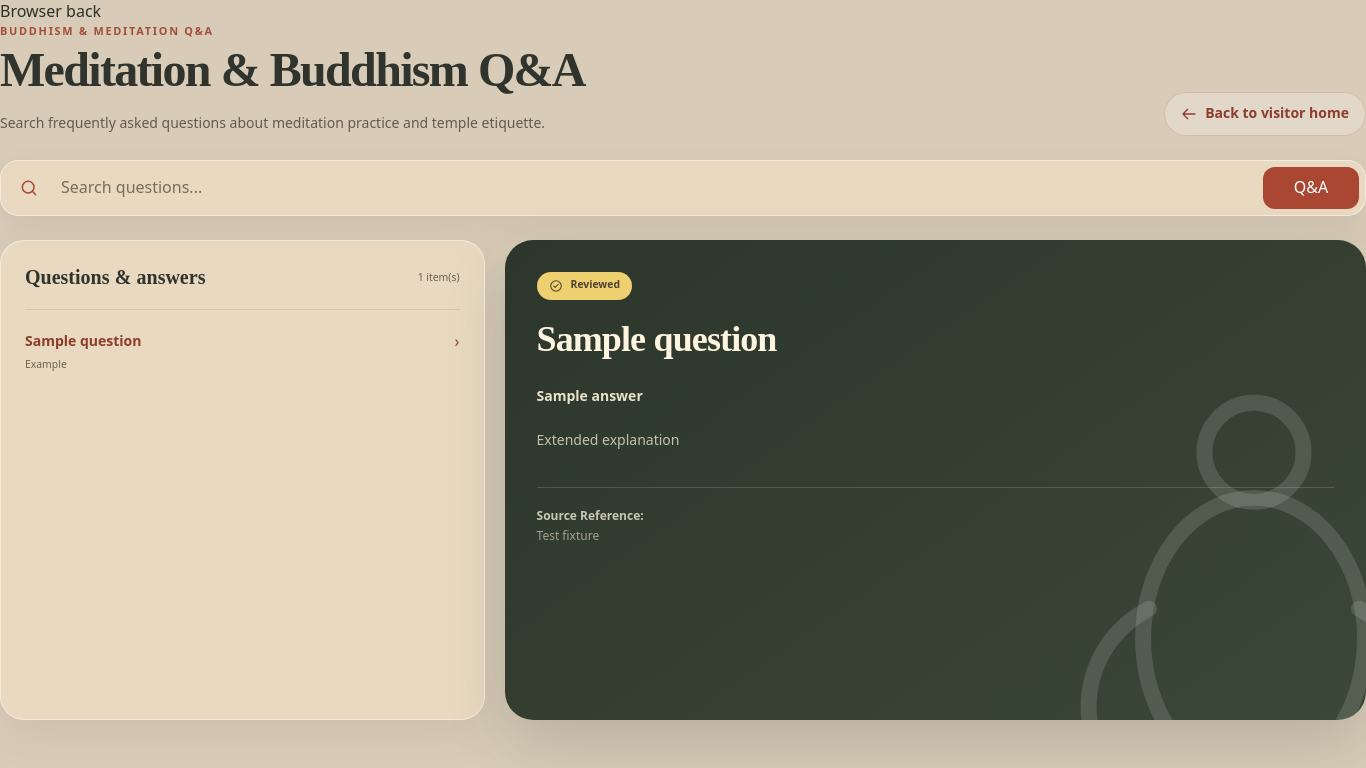
Scenario: Q&A and centers › queries only verified published Q&A and searches the selected translation
Expected: the text "Sample question" is shown, [25,331,142,352]
In the field labelled "Search questions...": [657, 188] box [57,161,1257,215], type "no match"
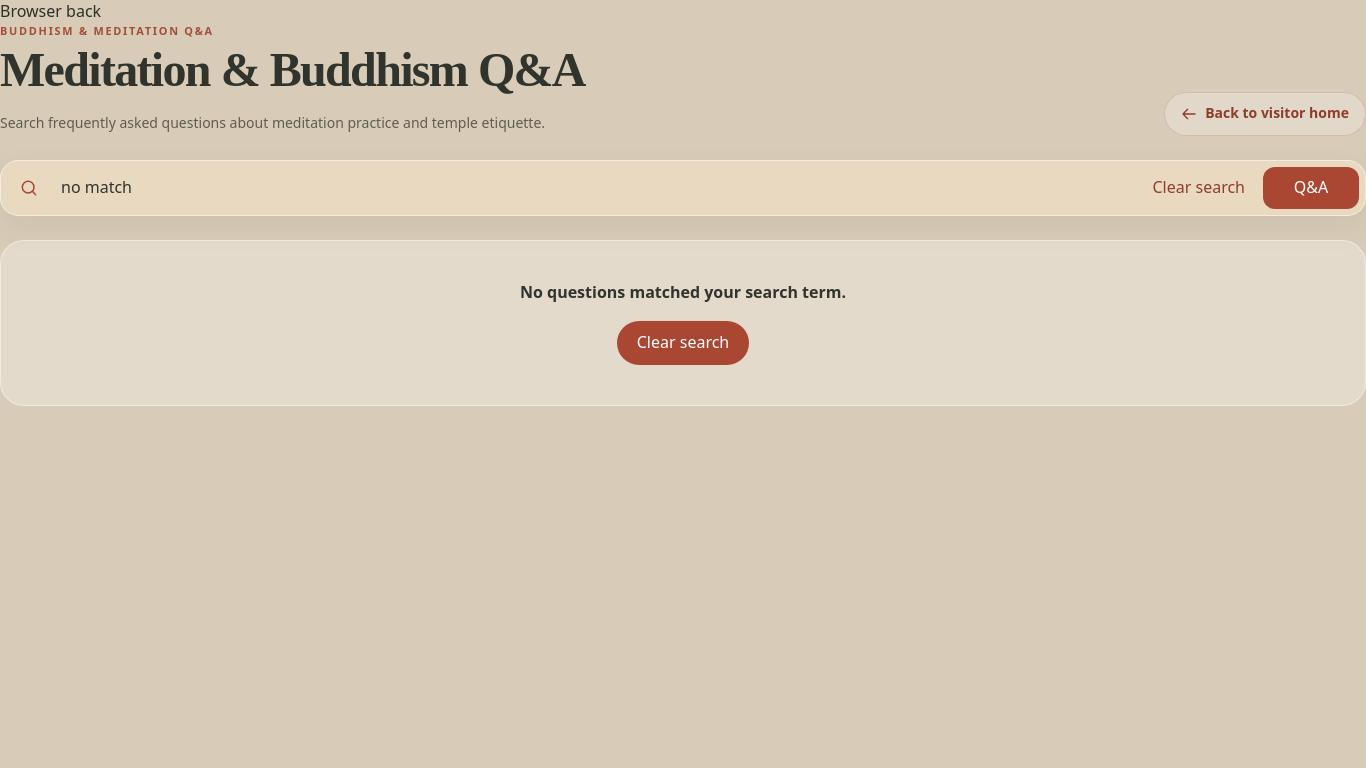
Now the heading "No questions matched your search term." is shown, box [520,281,846,305]
Click the 1st button "Clear search": [1199, 188] box [1140,161,1257,215]
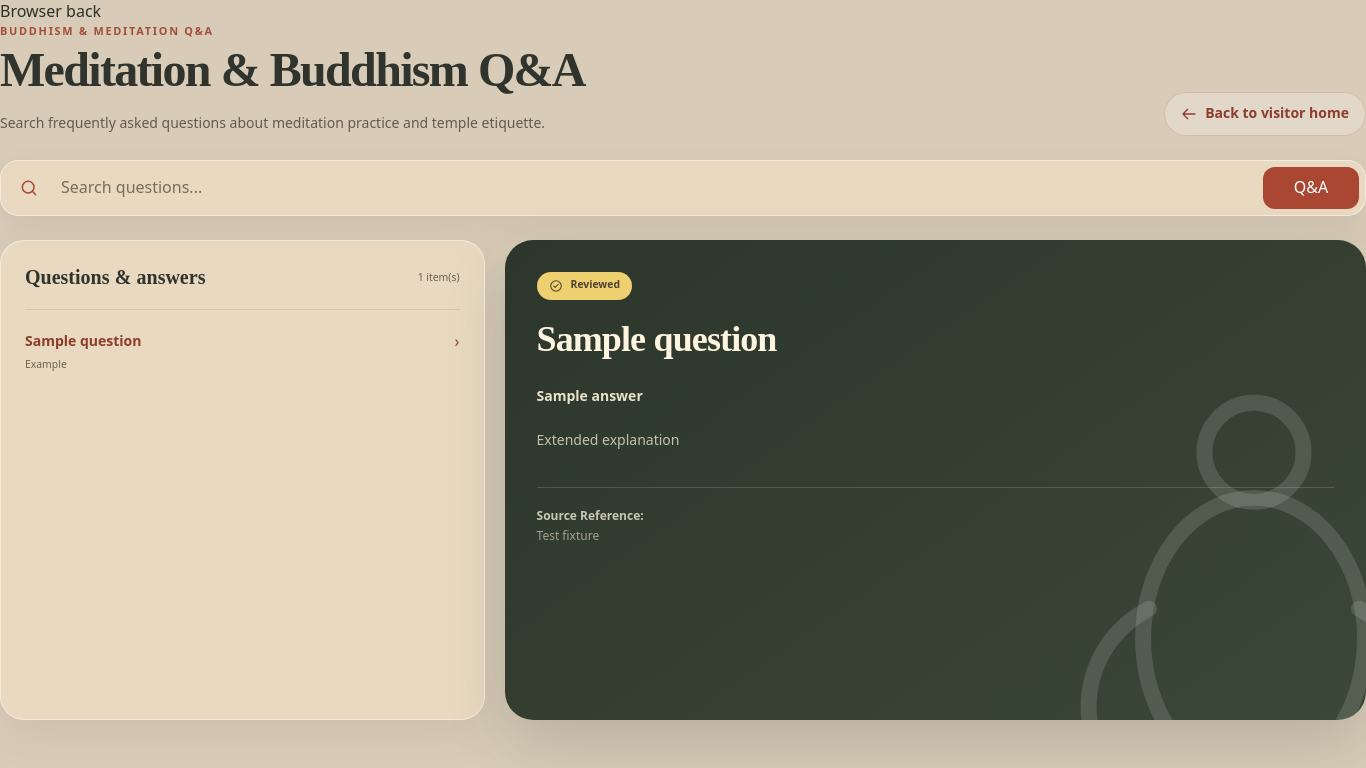
Now the text "Sample question" is shown, box [25,331,142,352]
